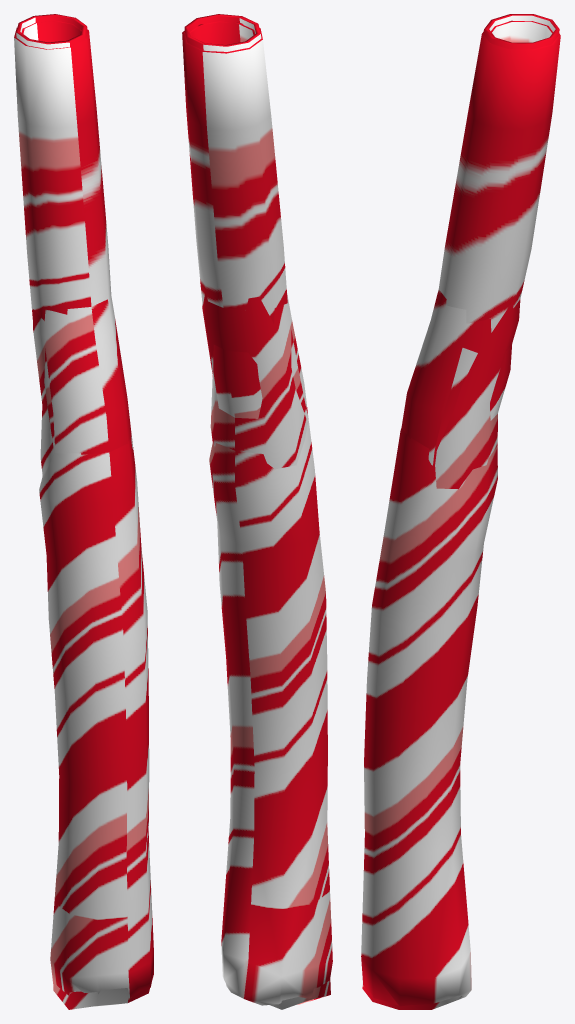
Rendered from CandycaneTunnelThin.fbx.
3 views of the same model, side by side, from view 1: azimuth 30°, elevation 25°; view 2: azimuth 150°, elevation 25°; view 3: azimuth 270°, elevation 25° (orthographic). The views are drawn at different scales.
Visible parts, largest first — view 1: Cylinder.001; view 2: Cylinder.001; view 3: Cylinder.001.
Boxes of the visible parts, box(x1,y1,x2,y2) form: Cylinder.001: box(14, 14, 153, 1009); Cylinder.001: box(182, 14, 332, 1009); Cylinder.001: box(361, 14, 560, 1009).
Bounding box in the file's own units: 108 × 1091 × 204.
